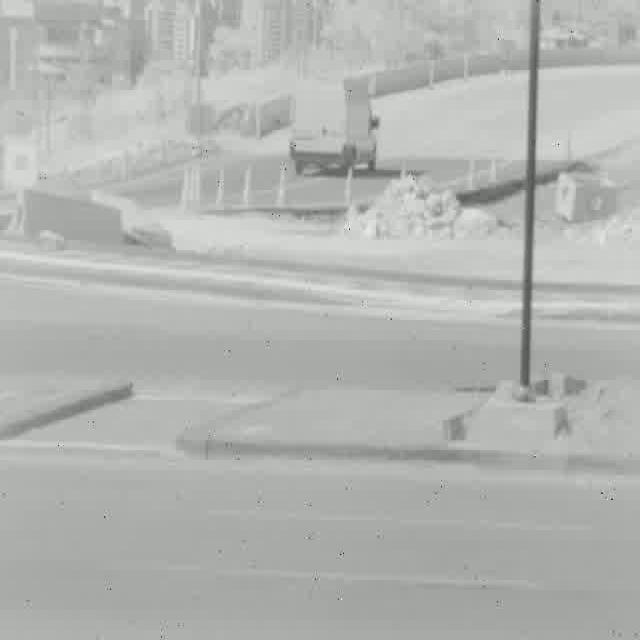Car: (290, 80, 376, 172)
